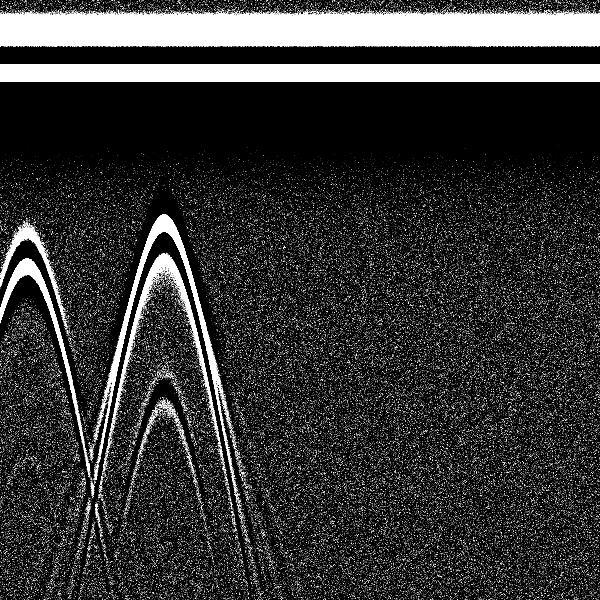pipe: (117, 5, 209, 307), (1, 7, 73, 340)
